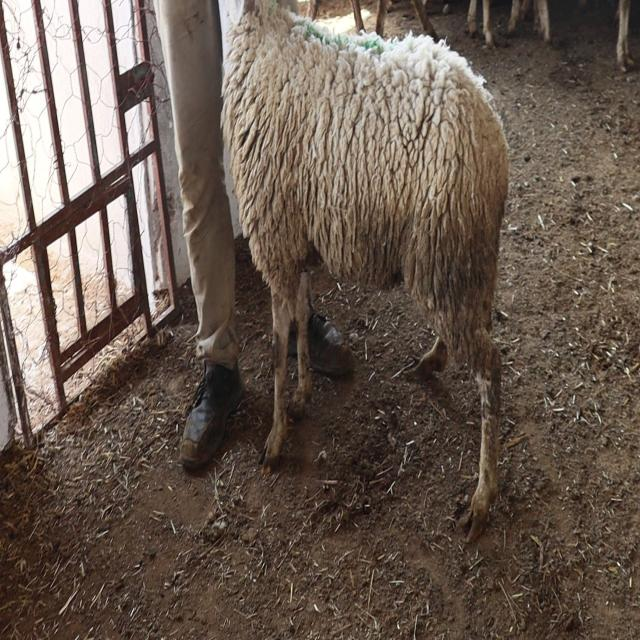Score_4: (221, 0, 508, 538)
